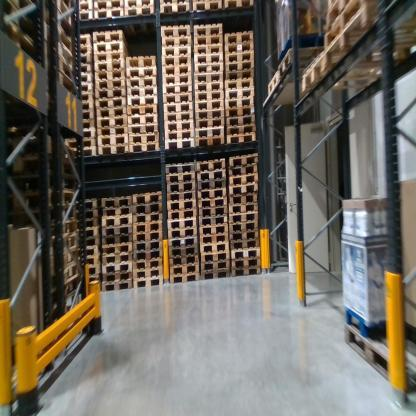pallets: (39, 0, 267, 306), (258, 1, 382, 108), (343, 314, 414, 392)
